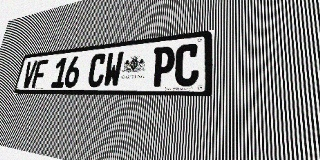1: (51, 57, 69, 88)
6: (63, 56, 82, 88)
C: (174, 43, 200, 86), (87, 53, 107, 87)
F: (31, 59, 48, 88)
P: (151, 46, 176, 87)
V: (21, 60, 38, 88)
W: (102, 51, 124, 87)
